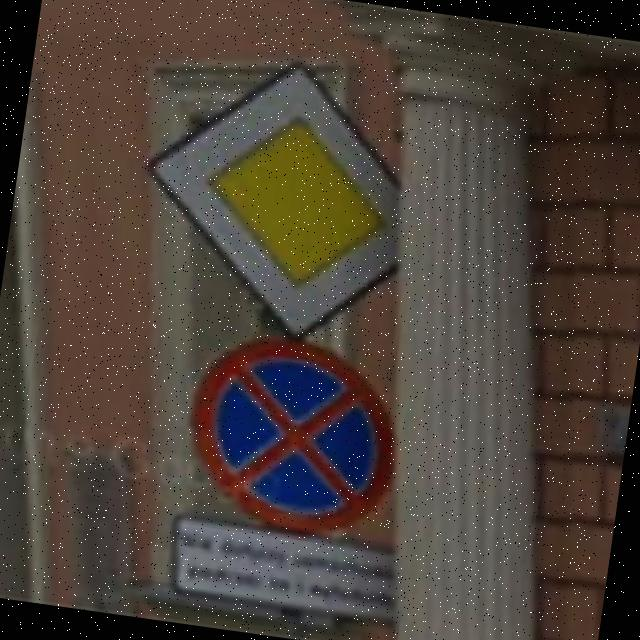Droga z pierwszenstwem: (122, 38, 426, 354)
Zakaz zatrzymywania sie: (171, 324, 413, 548)
